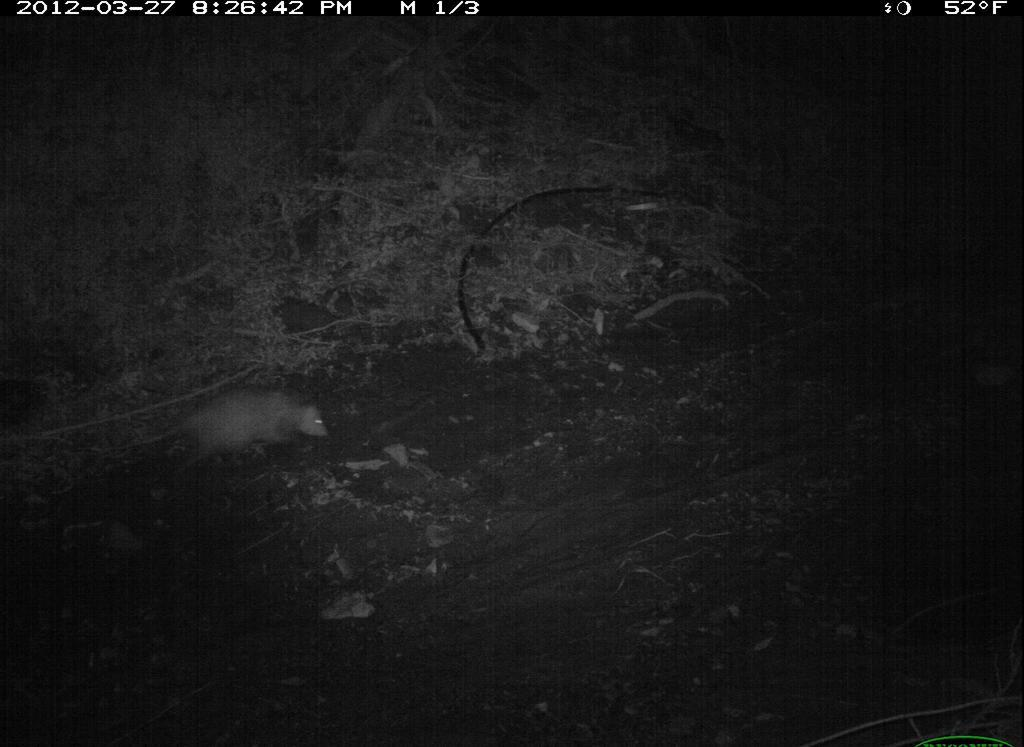opossum: (134, 378, 350, 493)
